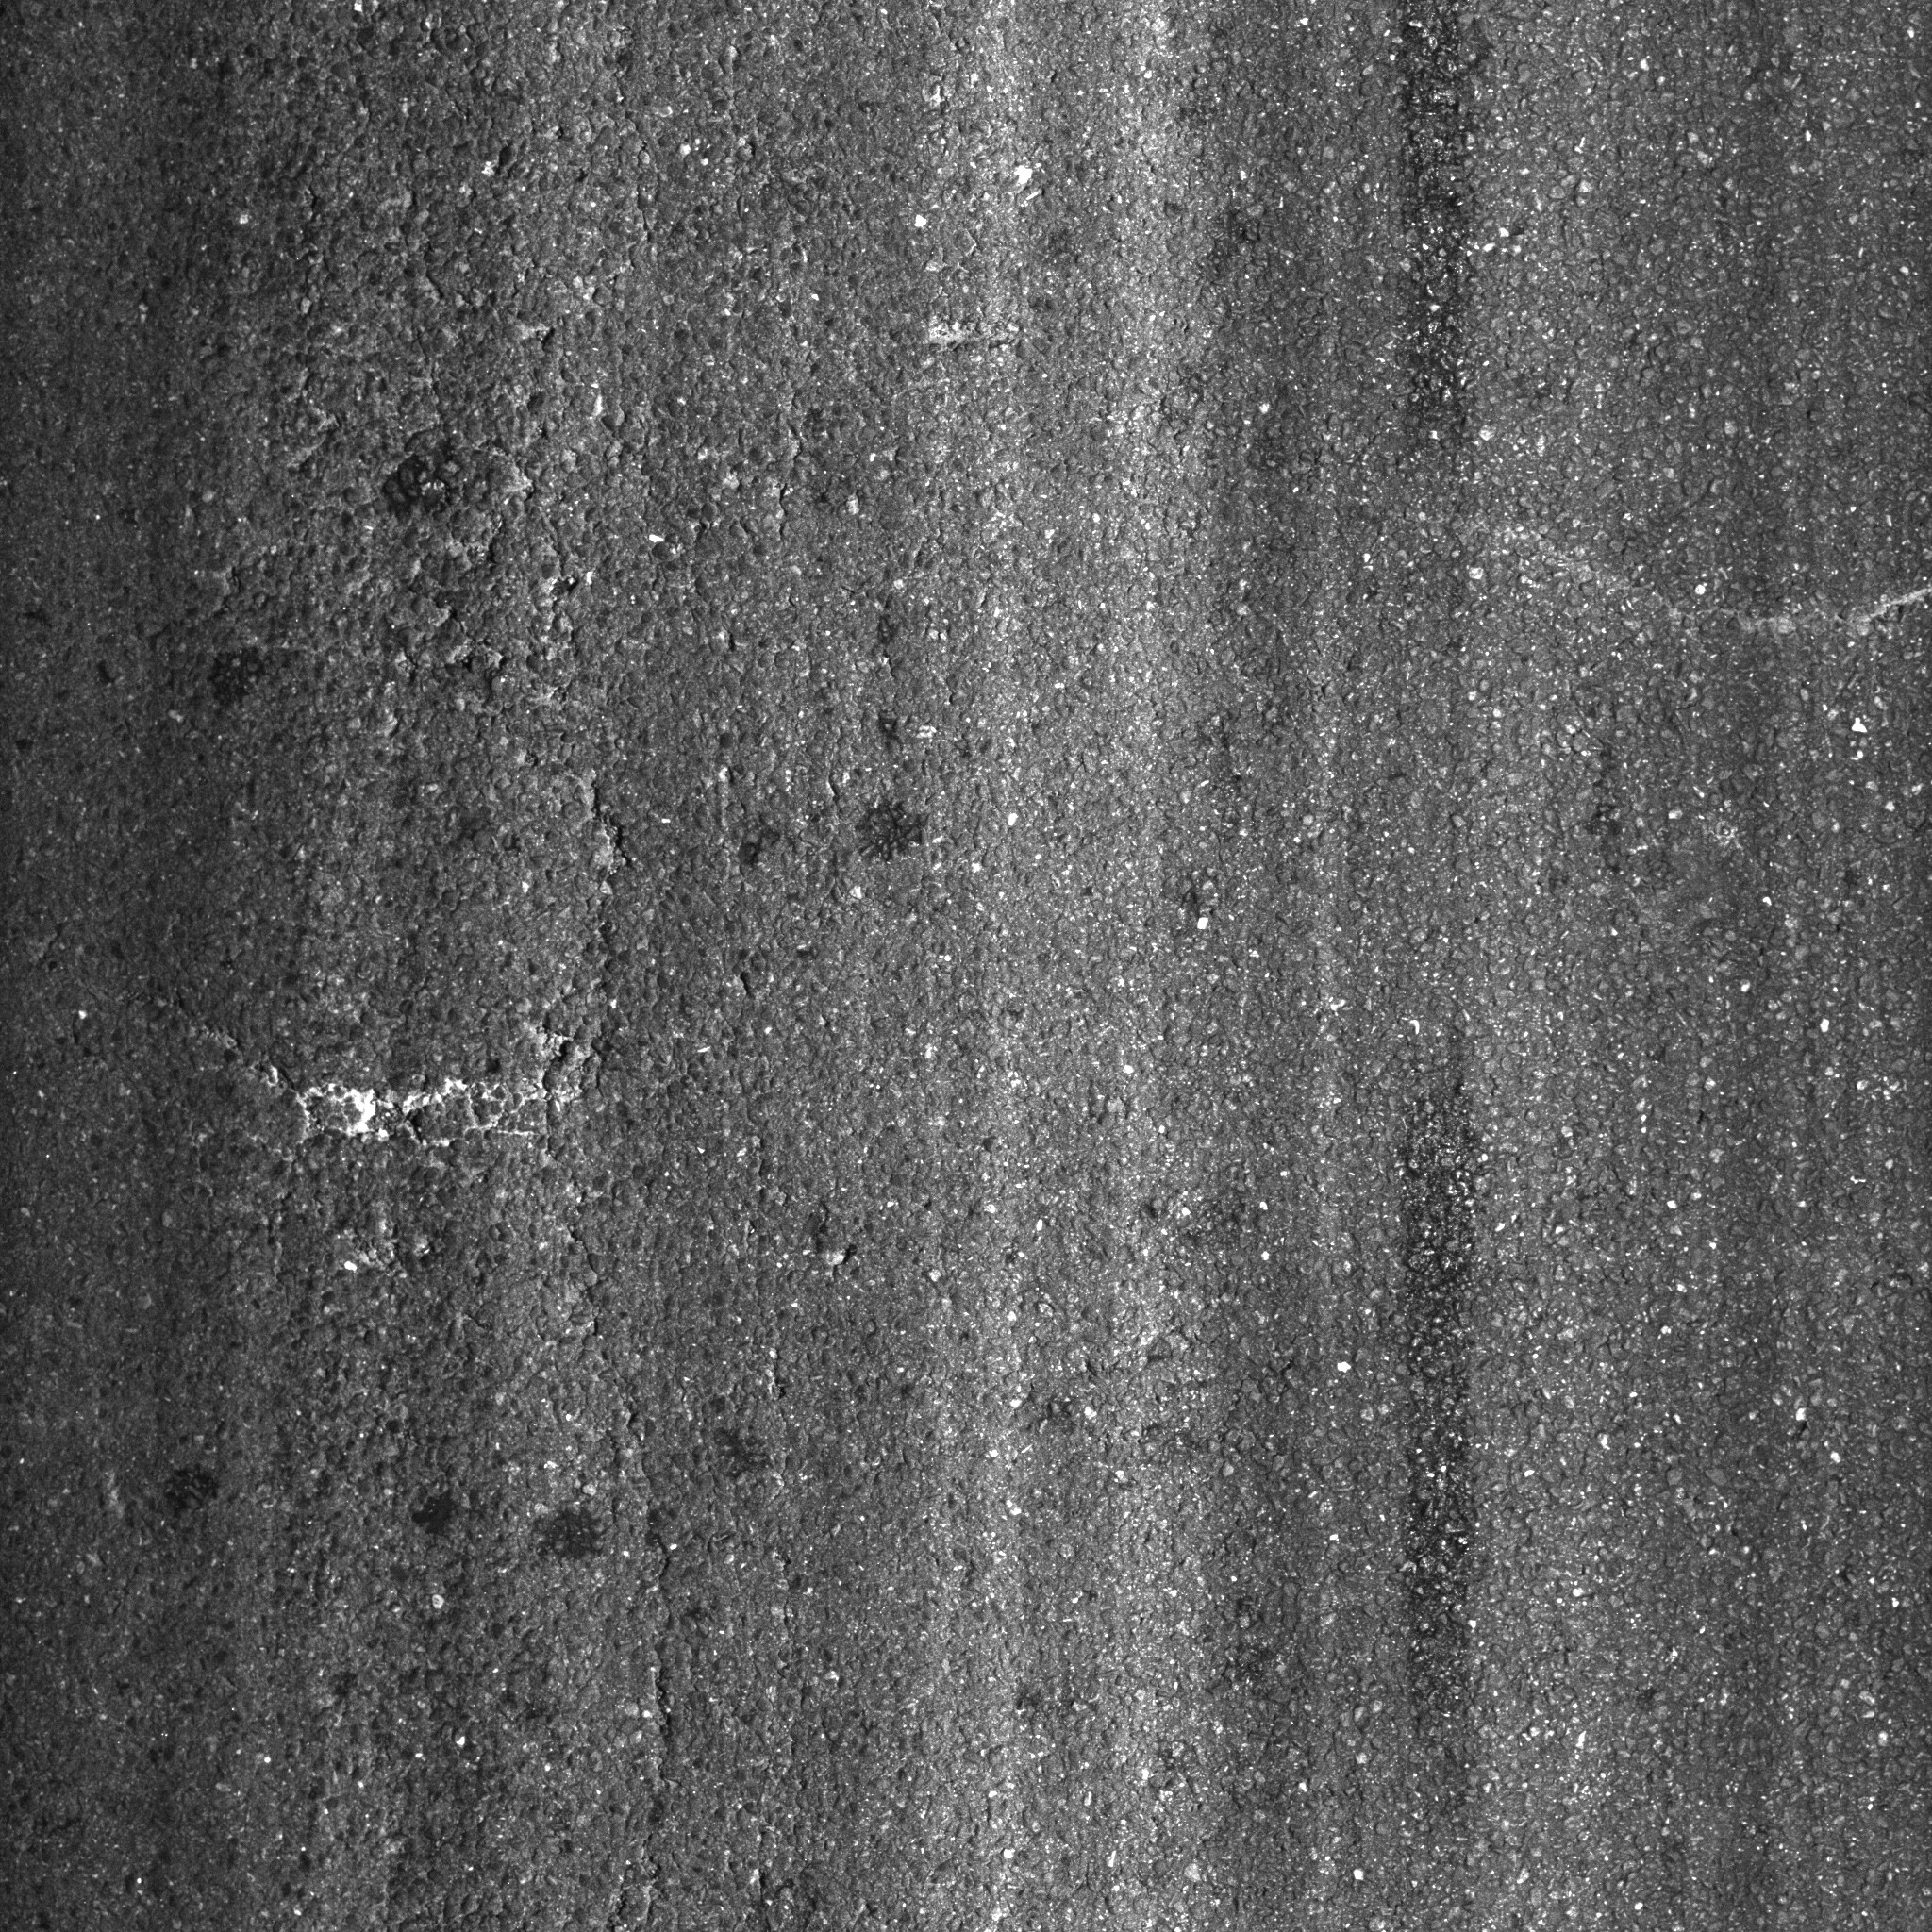alligator: (90, 4, 775, 1299)
